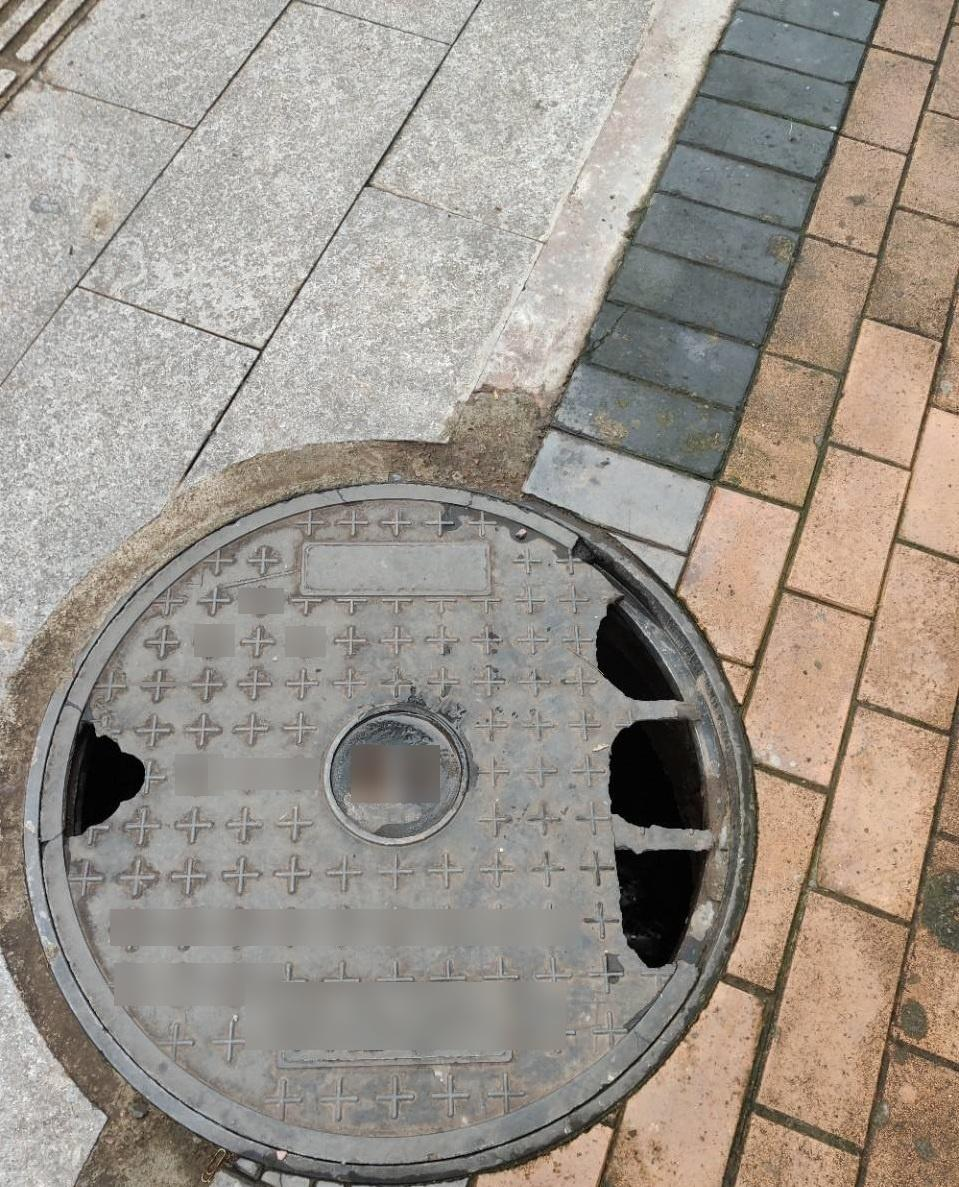wellcover: (33, 449, 758, 1187)
